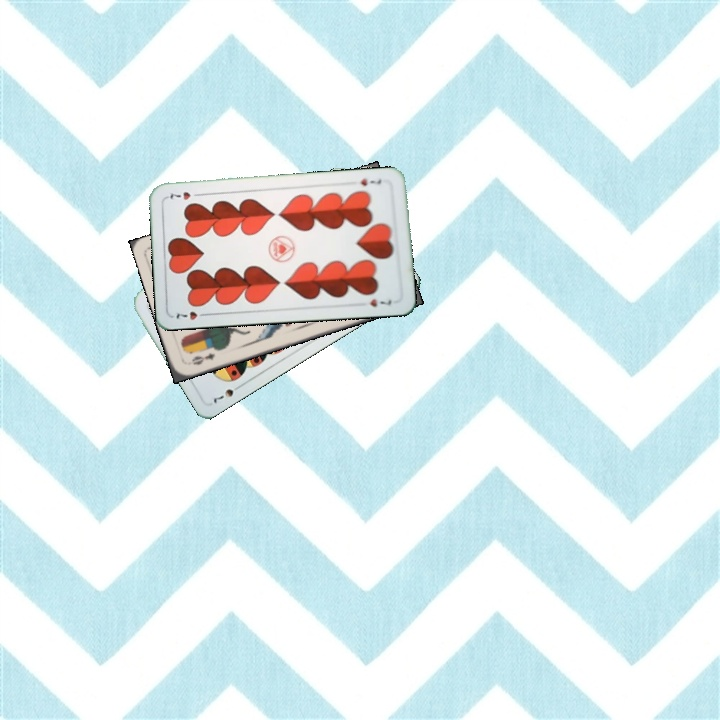EO: (188, 349, 218, 368)
H7: (172, 307, 211, 323), (357, 174, 384, 188)
S7: (209, 380, 245, 406)
